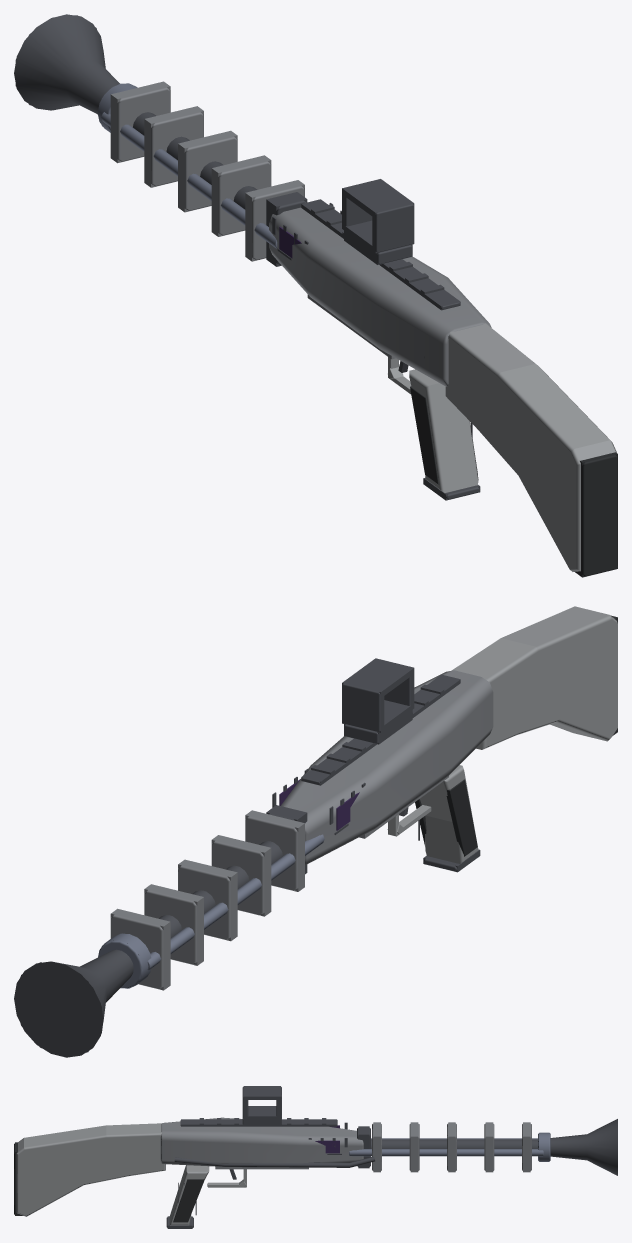
File: q_crifle.glb
3 views of the same model, one above another, from view 1: azimuth 30°, elevation 25°; view 2: azimuth 150°, elevation 25°; view 3: azimuth 270°, elevation 25° (orthographic). The views are drawn at different scales.
Visible parts, largest first — view 1: L0, L1; view 2: L0, L1; view 3: L0, L1.
Boxes of the visible parts, x1=… form: L0: x1=14, y1=14, x2=617, y2=576; L1: x1=15, y1=15, x2=617, y2=577; L0: x1=14, y1=606, x2=617, y2=1057; L1: x1=14, y1=616, x2=617, y2=1057; L0: x1=14, y1=1086, x2=617, y2=1227; L1: x1=15, y1=1086, x2=617, y2=1228.
Size of the model in its own units: 0.0924 by 0.2349 by 0.9678.
